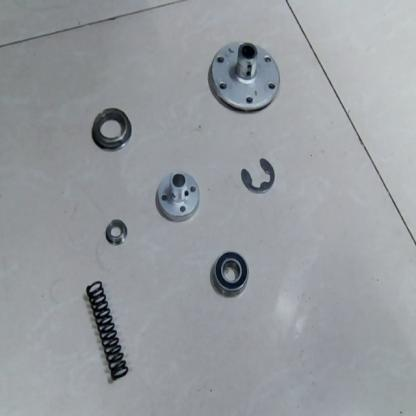FOD: (206, 39, 280, 120), (83, 278, 131, 382), (154, 169, 202, 224), (208, 249, 254, 300), (87, 107, 133, 154), (238, 155, 277, 197), (105, 216, 128, 248)
